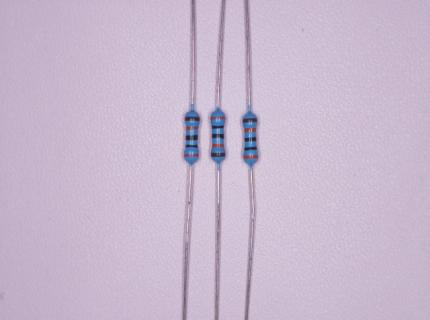Black band: (212, 133, 225, 139), (186, 135, 198, 141), (244, 146, 257, 151), (212, 125, 224, 130), (245, 137, 257, 142), (186, 144, 198, 148)
Brown band: (242, 118, 258, 123), (185, 117, 200, 121), (211, 153, 226, 157)
Orange band: (210, 116, 226, 120), (243, 155, 259, 159), (186, 126, 198, 131), (184, 154, 199, 158), (212, 144, 224, 148), (244, 128, 256, 132)
